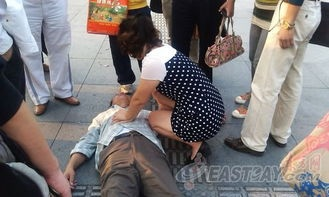falling: (62, 83, 197, 193)
